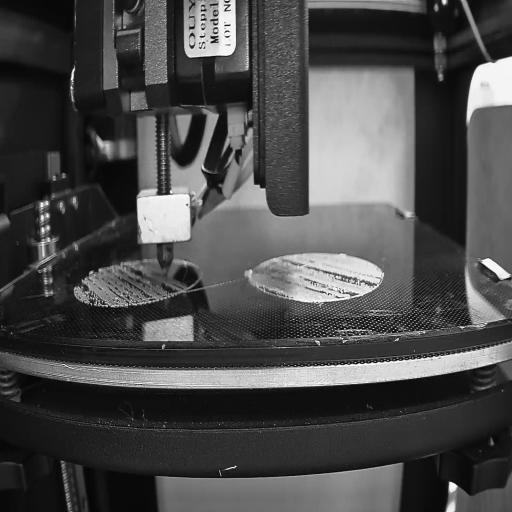under_extrusion: (260, 260, 382, 296), (76, 265, 182, 303)
